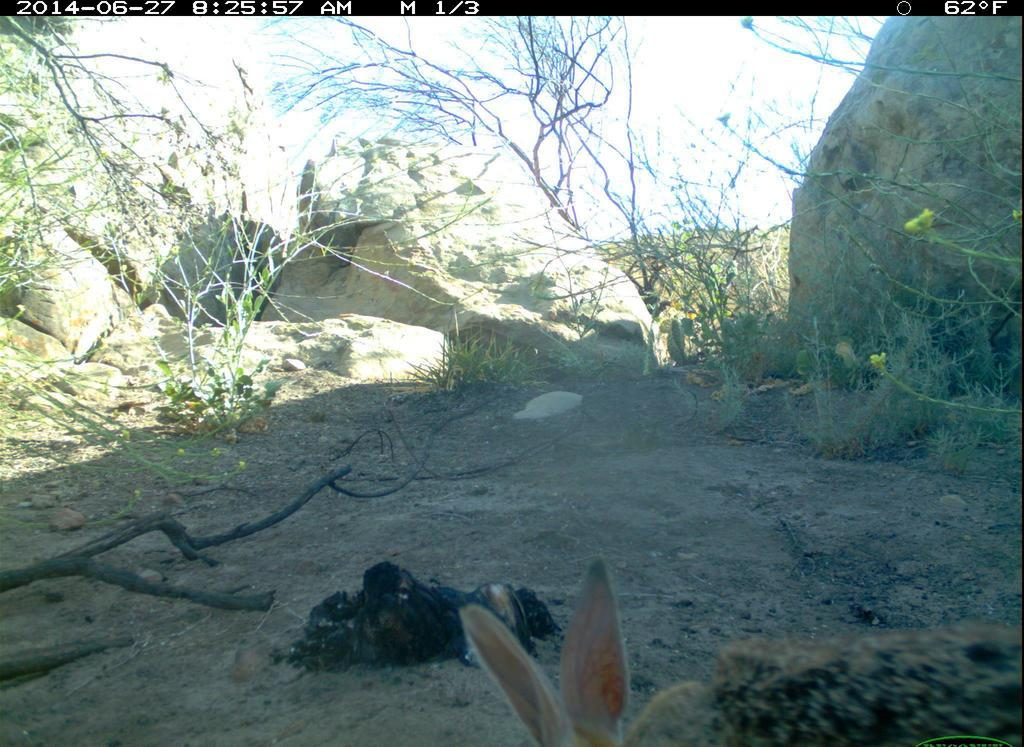rabbit: (442, 558, 677, 747)
